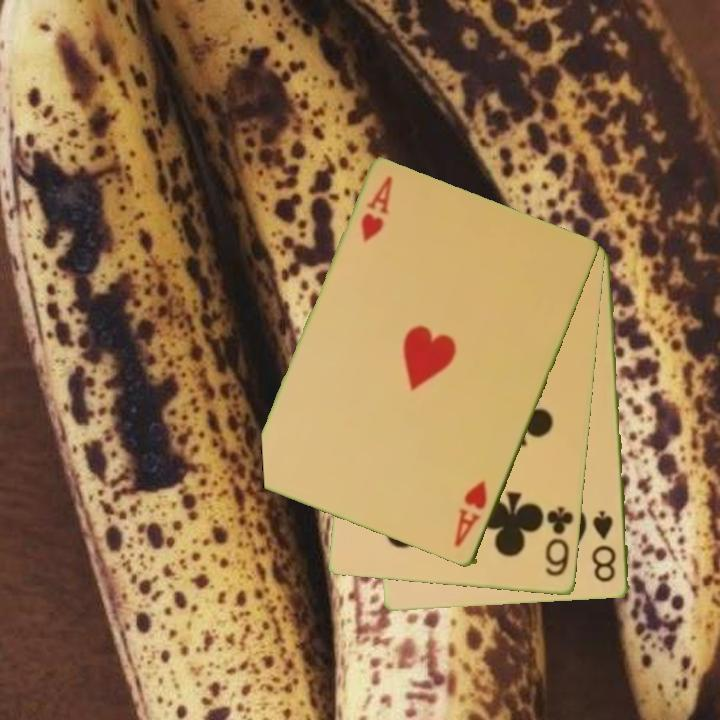6c: (542, 503, 577, 580)
8s: (589, 508, 620, 586)
Ah: (451, 477, 491, 551), (357, 173, 396, 246)
